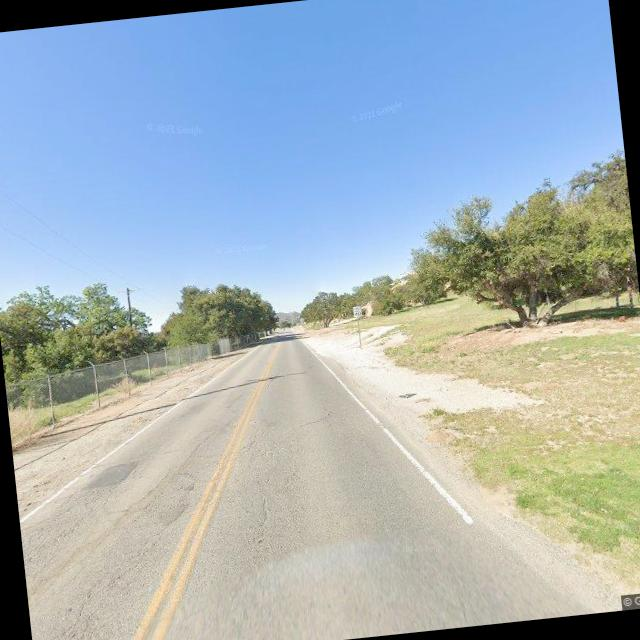crack: (14, 453, 211, 640)
